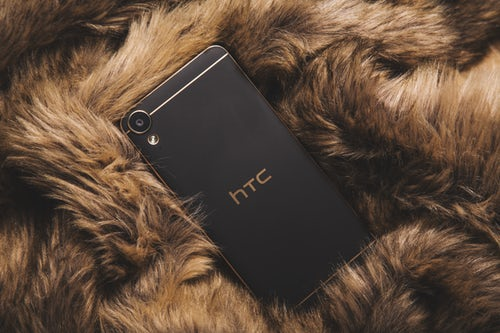phone: (115, 43, 383, 312)
